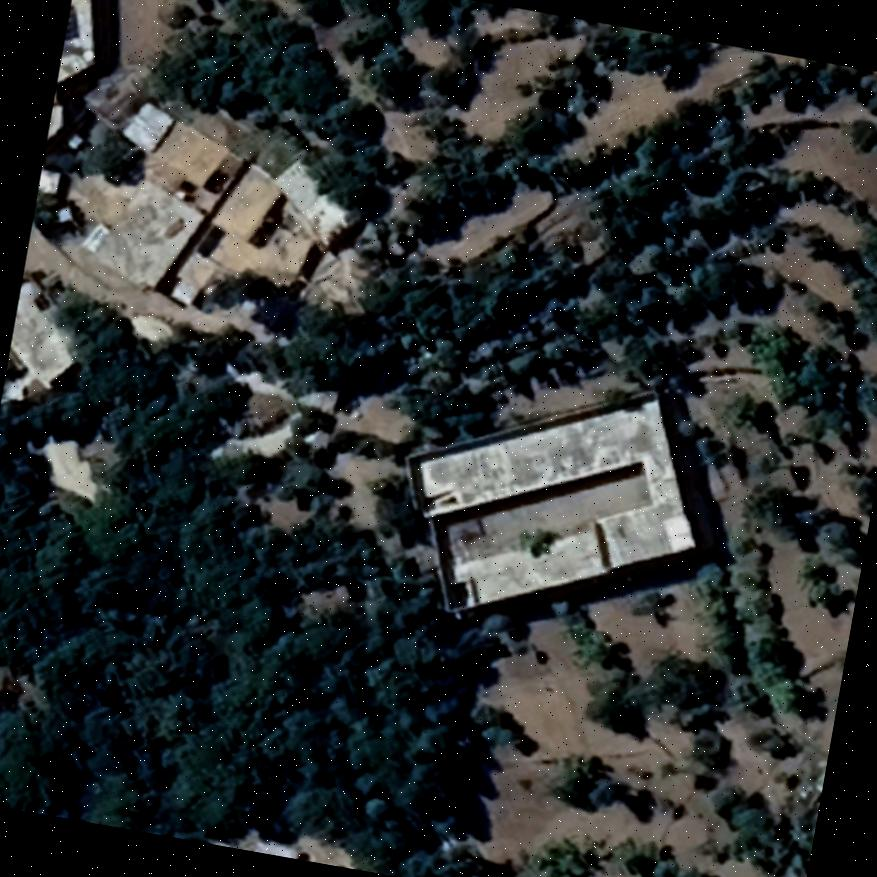Solarpanel: (63, 5, 85, 46)
